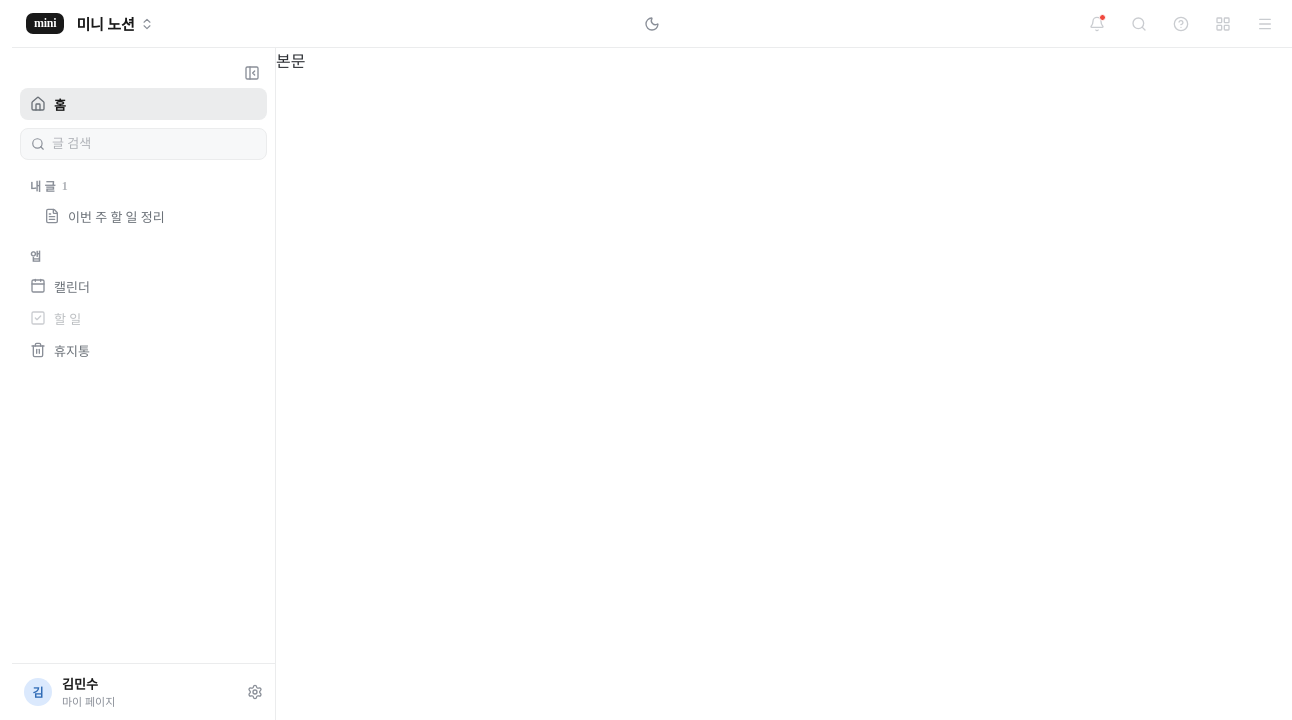
같은 버튼을 다시 클릭하면 원래 너비로 펼쳐진다 (US1-2/FR-003)
The image size is (1292, 720).
Click the button named "사이드바 접기": (252, 73) [237, 58, 267, 88]
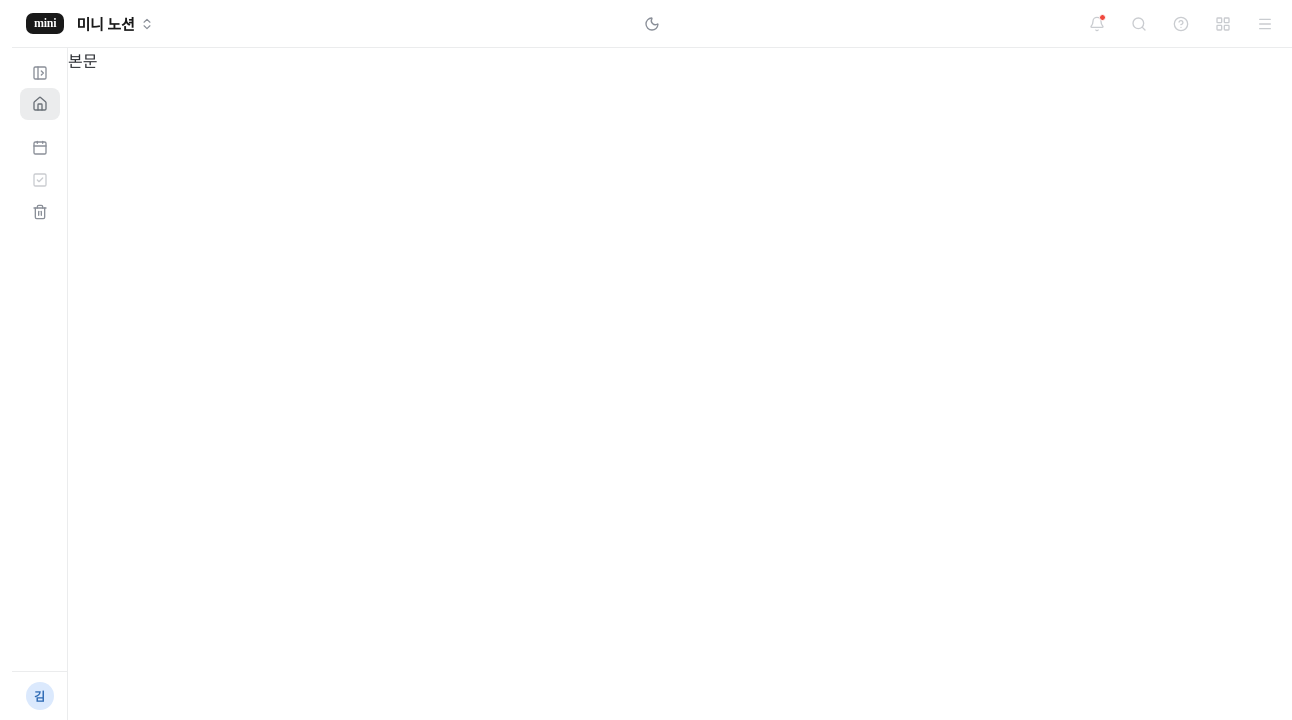
Expected: the navigation bar with class "sidebar" has class "is-collapsed", [12, 48, 68, 719]
Click the button named "사이드바 펼치기": (40, 73) [24, 58, 54, 88]
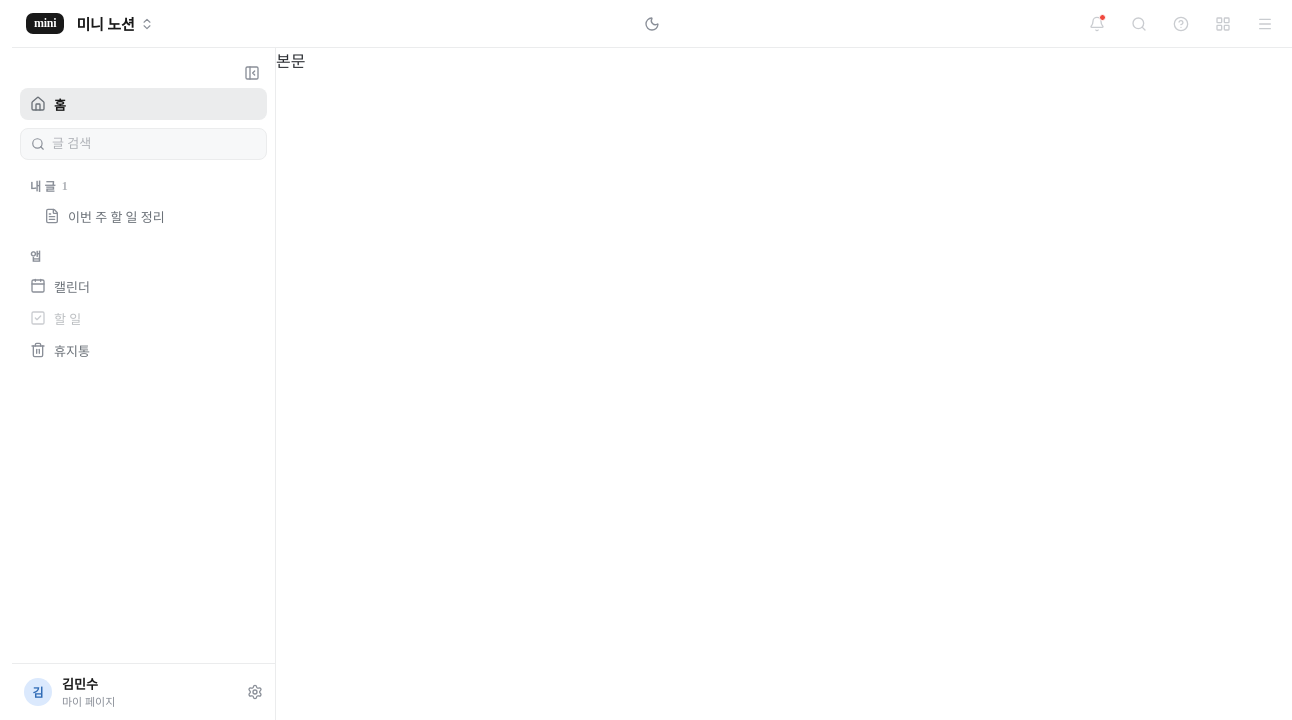
Expected: the field with placeholder "글 검색" is shown, [52, 136, 256, 152]
Expected: the text "이번 주 할 일 정리" is shown, [68, 210, 165, 224]
